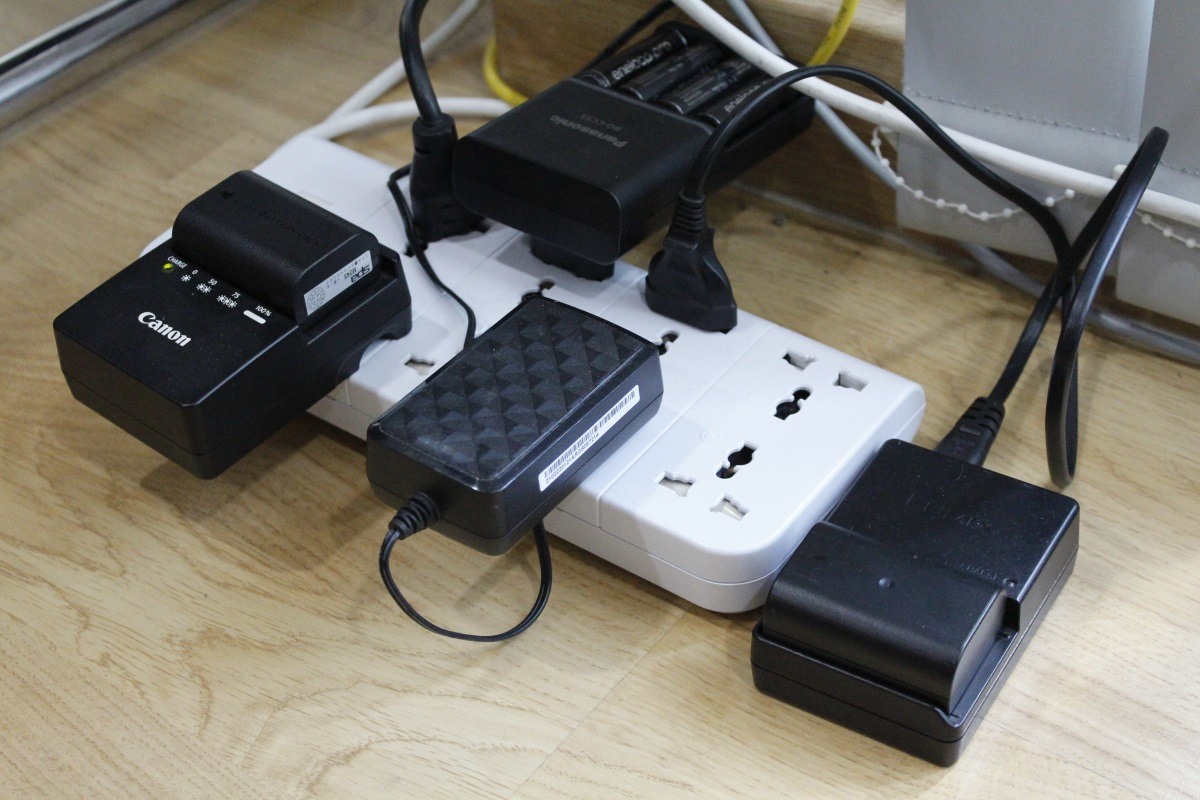Three_eye_plug: (125, 126, 945, 620)
